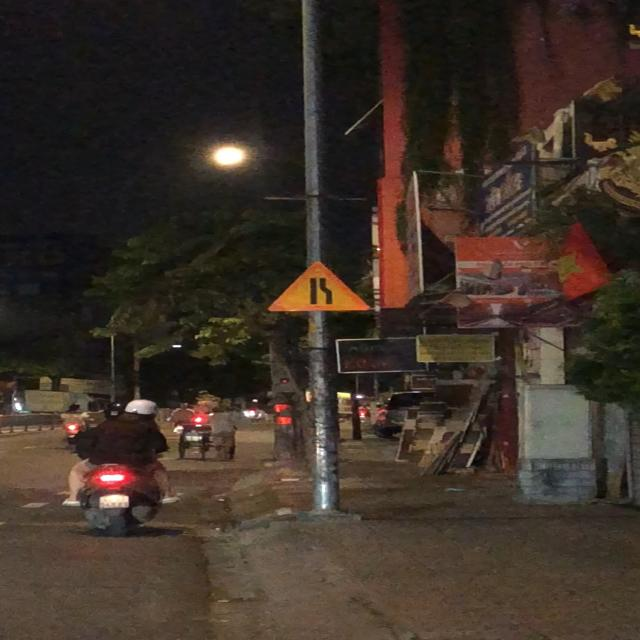Bien bao duong bi thu hep: (267, 260, 375, 312)
